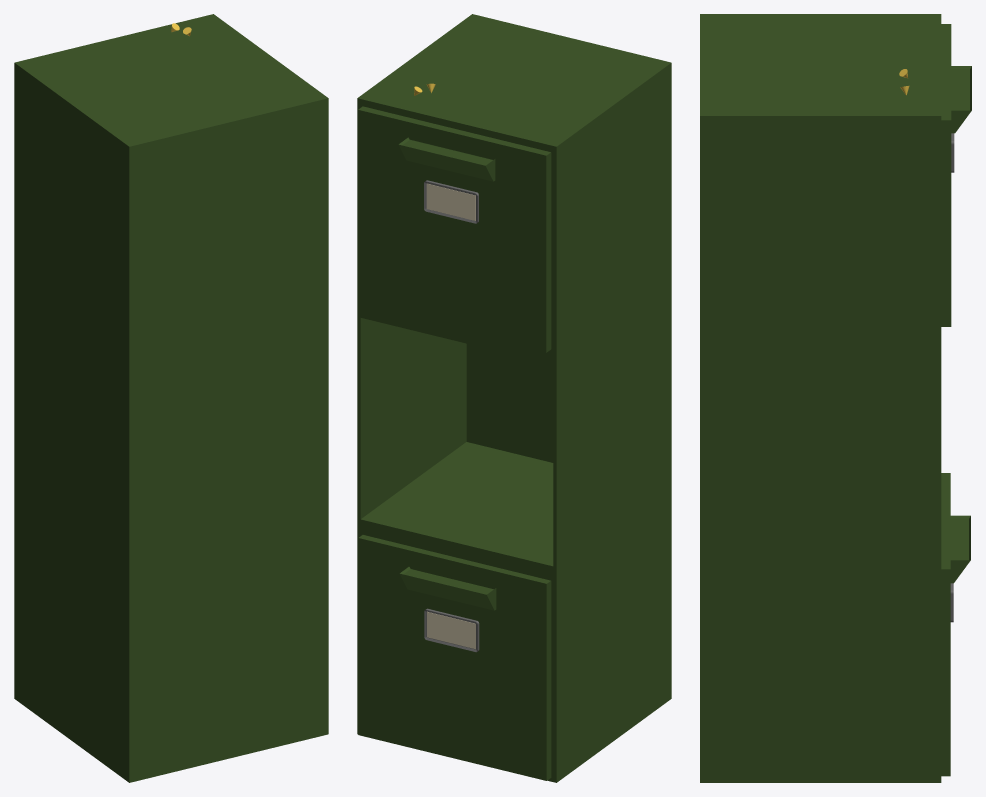
Rendered from casier_corps.glb.
3 renders of one model, left to right at view 1: azimuth 30°, elevation 25°; view 2: azimuth 150°, elevation 25°; view 3: azimuth 270°, elevation 25°, orthographic. The views are drawn at different scales.
Visible parts, largest first — view 1: model; view 2: model; view 3: model.
Part boxes in pixels (x1,y1,x2,y2): model: [14, 14, 328, 782]; model: [357, 14, 671, 782]; model: [700, 14, 971, 782].
Bounding box in the file's own units: 3.7 × 11.57 × 4.17.
